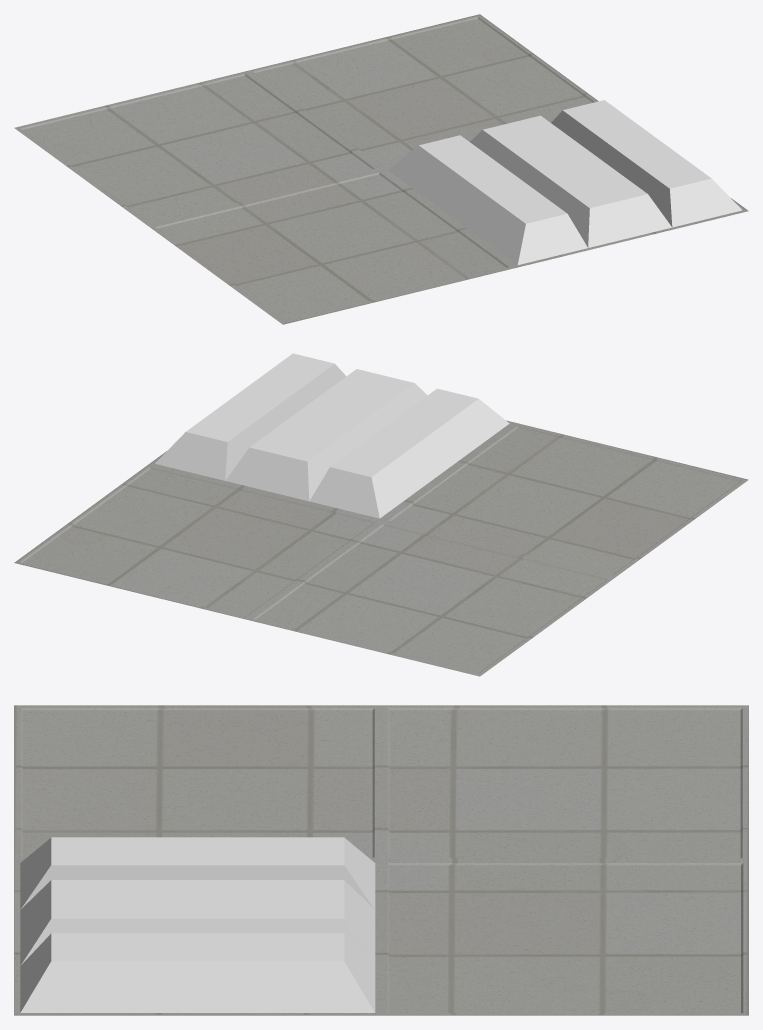
Rendered from RoofLight.fbx.
3 views of the same model, one above another, from view 1: azimuth 30°, elevation 25°; view 2: azimuth 150°, elevation 25°; view 3: azimuth 270°, elevation 25° (orthographic). The views are drawn at different scales.
Visible parts, largest first — view 1: RoofLight; view 2: RoofLight; view 3: RoofLight.
Boxes of the visible parts, box(x1,y1,x2,y2) form: RoofLight: box(14, 14, 748, 324); RoofLight: box(14, 353, 748, 676); RoofLight: box(14, 705, 748, 1015).
Bounding box in the file's own units: 196 × 12.02 × 196.
